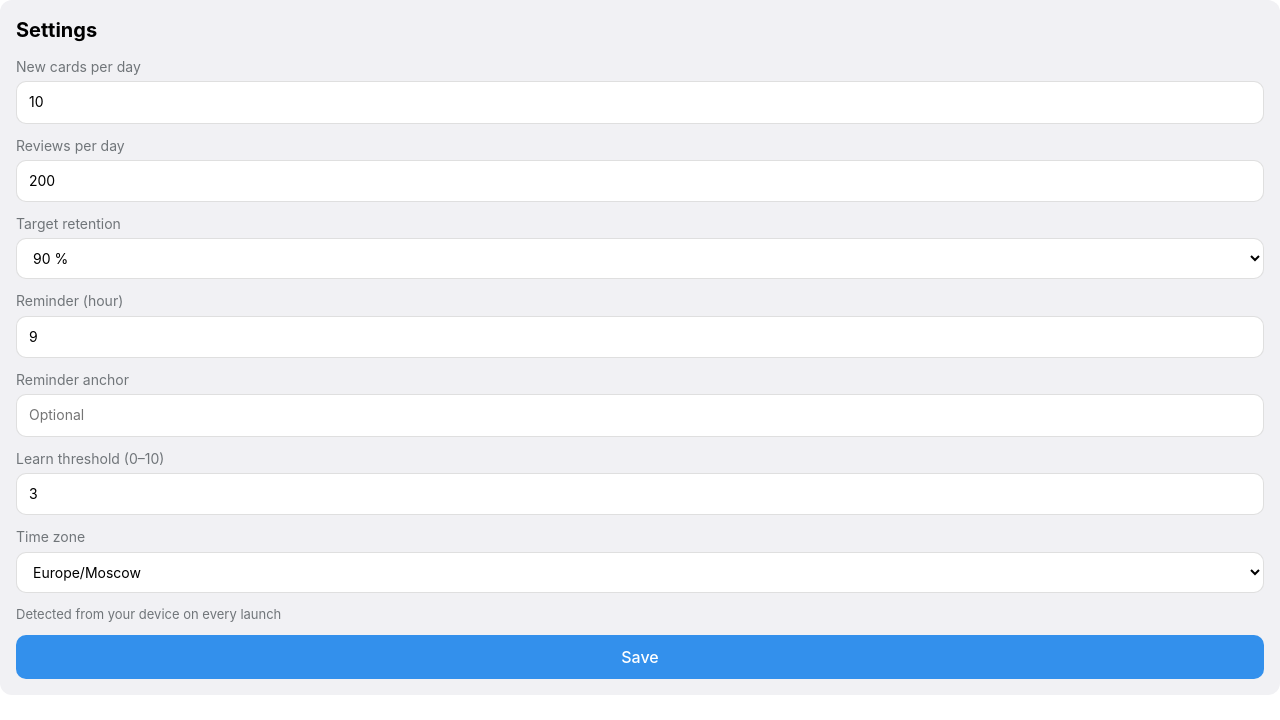
Test: SettingsView › settings shows validation error
The image size is (1280, 720).
What coordinates should you click on to do the following:
click the button "Save"
I would click on:
 (640, 657)
Its box is left=16, top=635, right=1264, bottom=679.
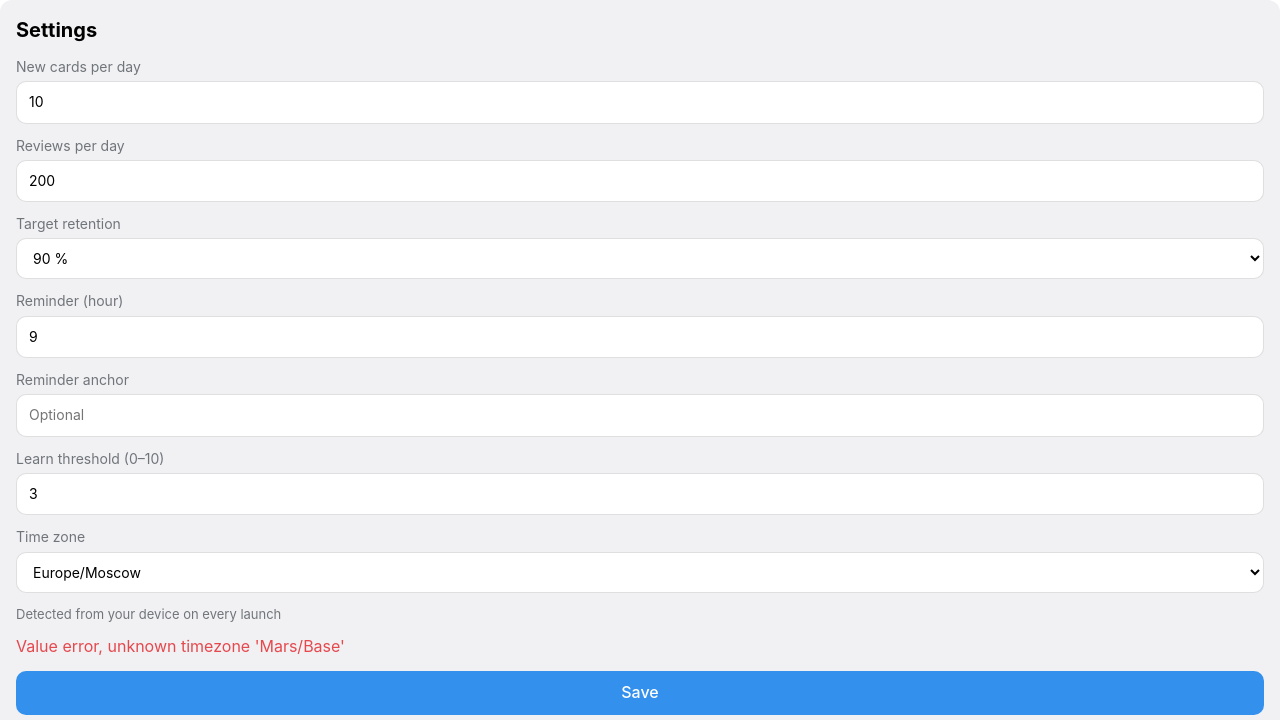
Check: the message reads "Value error, unknown timezone 'Mars/Base'", box left=16, top=636, right=345, bottom=656
